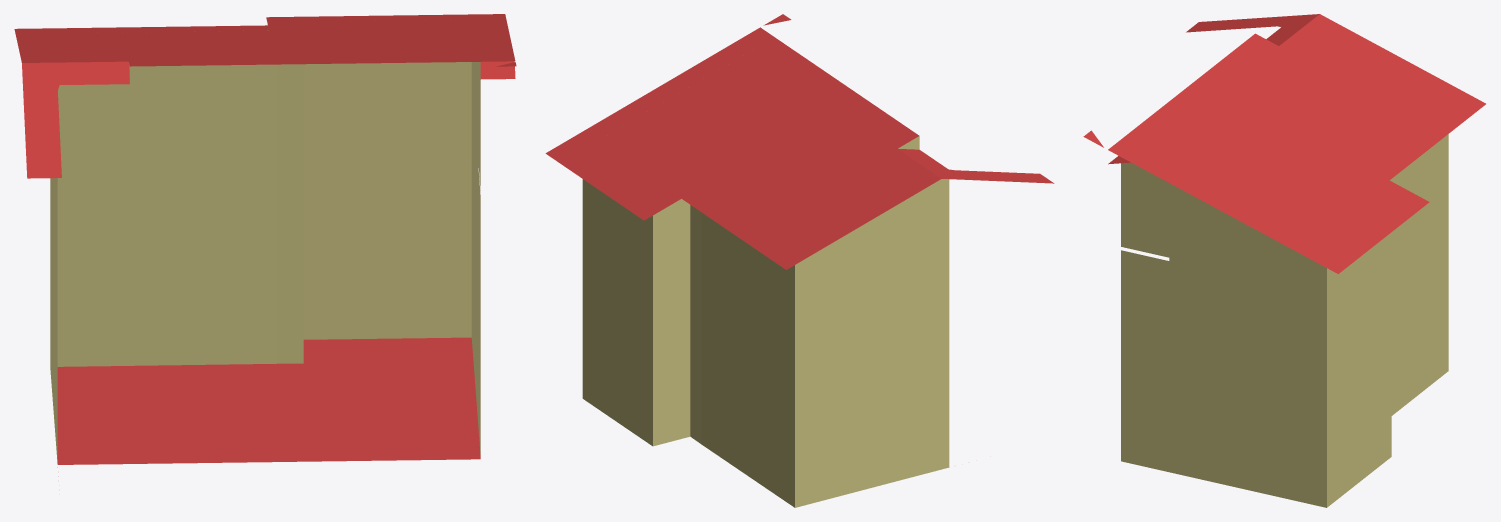
3 views of the same model, side by side, from view 1: azimuth 30°, elevation 25°; view 2: azimuth 150°, elevation 25°; view 3: azimuth 270°, elevation 25° (orthographic). The views are drawn at different scales.
Size of the model in its own units: 14.07 by 10.76 by 9.7.
